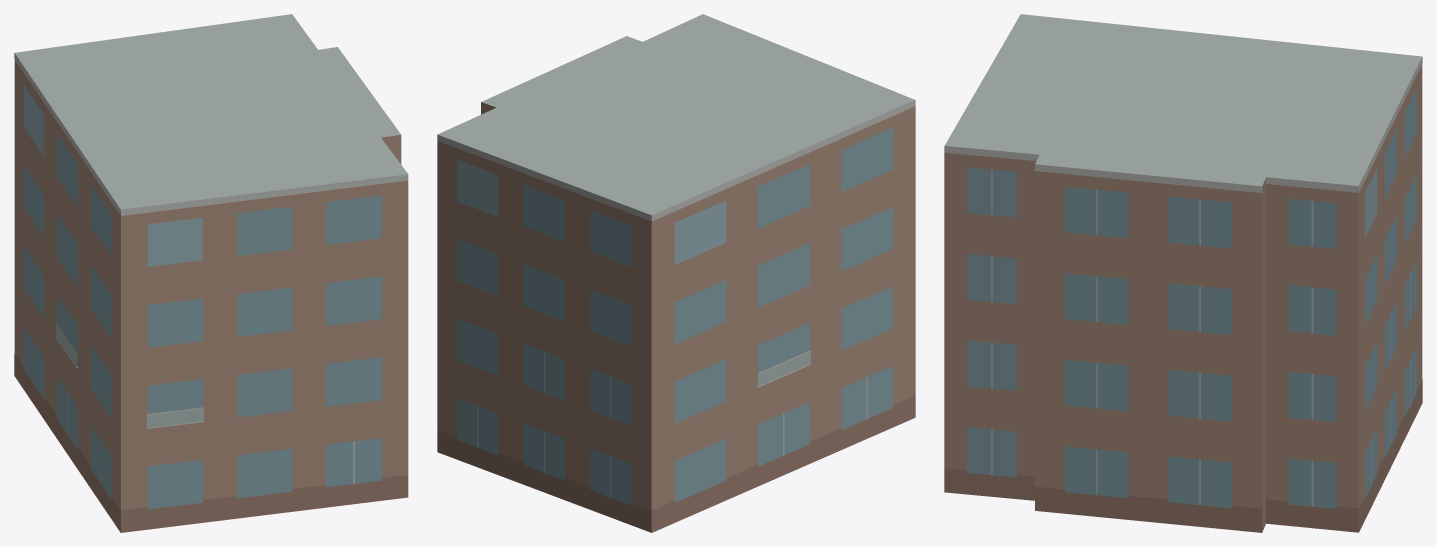
The model's file is survey-upis-32913192.glb.
3 renders of one model, left to right at view 1: azimuth 30°, elevation 25°; view 2: azimuth 150°, elevation 25°; view 3: azimuth 270°, elevation 25°, orthographic. The views are drawn at different scales.
Parts seen in each view (by area): view 1: survey-upis-32913192.tmp; view 2: survey-upis-32913192.tmp; view 3: survey-upis-32913192.tmp.
Boxes of the visible parts, left/top/right/bottom form: survey-upis-32913192.tmp: left=14, top=14, right=408, bottom=532; survey-upis-32913192.tmp: left=437, top=14, right=915, bottom=532; survey-upis-32913192.tmp: left=944, top=14, right=1422, bottom=532.
Bounding box in the file's own units: 13.35 × 12.5 × 15.64.
